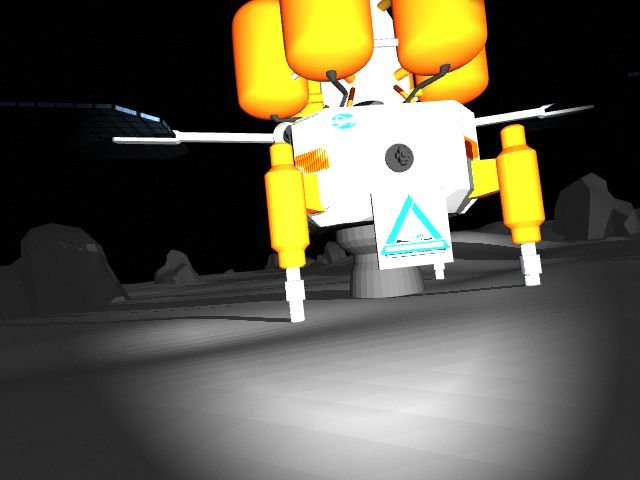basemarker: (378, 194, 451, 260)
